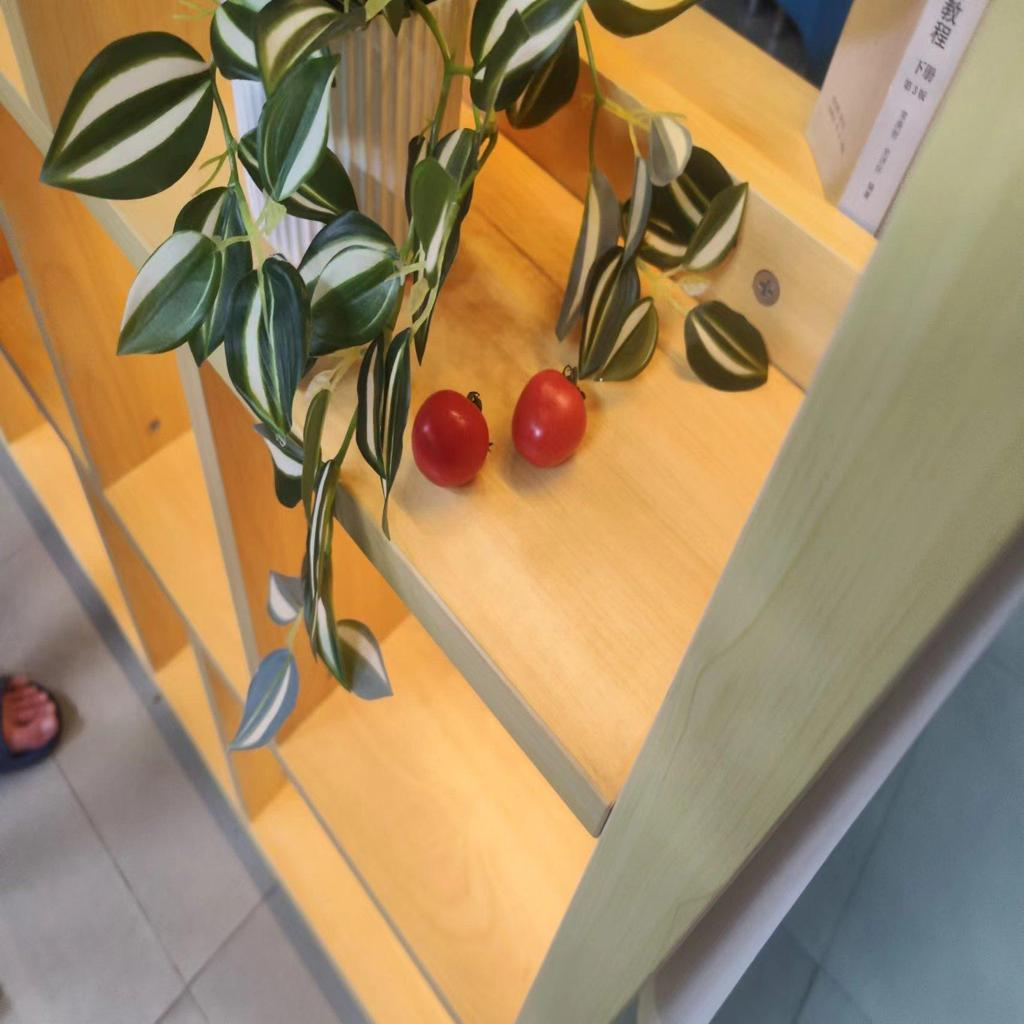tomato: (510, 363, 585, 469), (416, 391, 489, 489)
